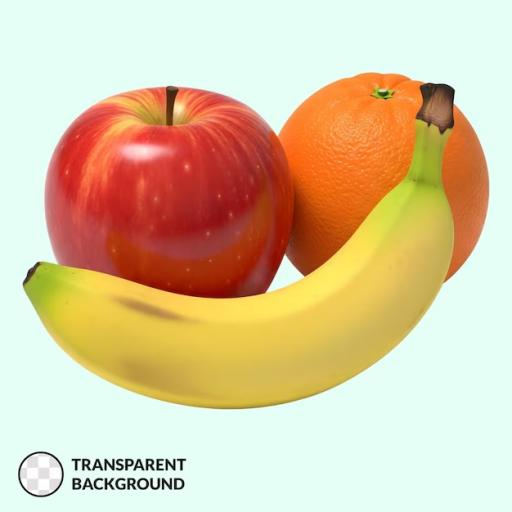apple: (45, 88, 293, 297)
banana: (24, 85, 453, 408)
orange: (279, 73, 422, 274)
